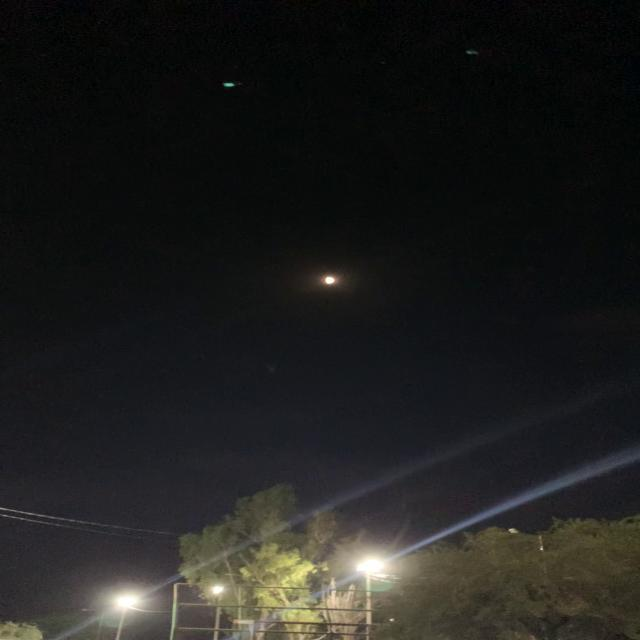moon: (308, 266, 354, 296)
